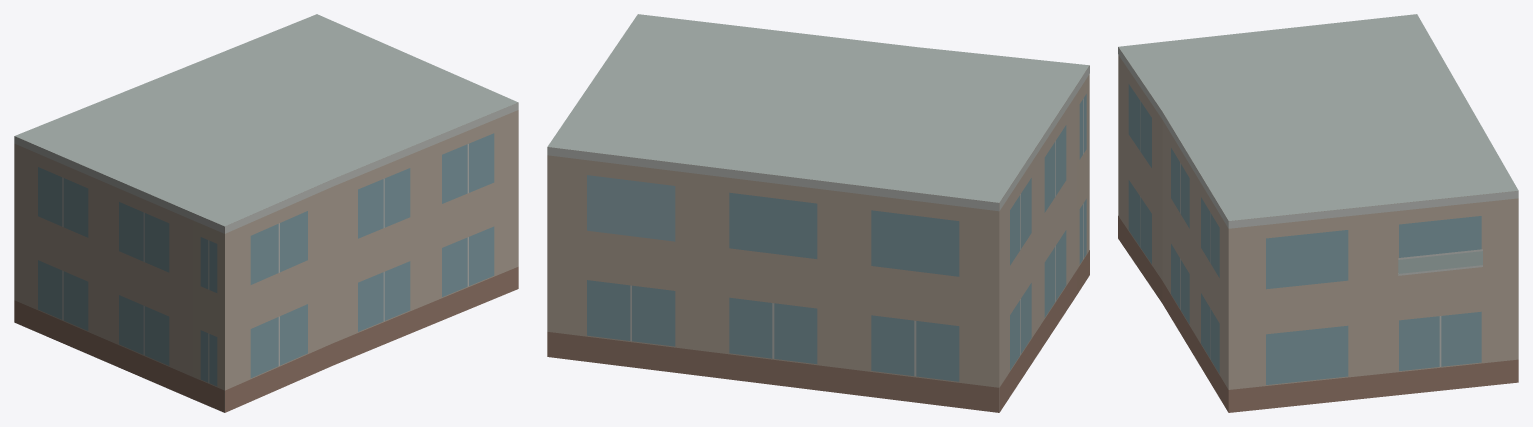
Rendered from survey-upis-32983561.glb.
The picture shows the model from 3 angles, left to right: view 1: azimuth 30°, elevation 25°; view 2: azimuth 150°, elevation 25°; view 3: azimuth 270°, elevation 25°; orthographic projection. The views are drawn at different scales.
Parts seen in each view (by area): view 1: survey-upis-32983561.tmp; view 2: survey-upis-32983561.tmp; view 3: survey-upis-32983561.tmp.
Part boxes in pixels (x1,y1,x2,y2): survey-upis-32983561.tmp: [14, 14, 518, 412]; survey-upis-32983561.tmp: [547, 14, 1089, 412]; survey-upis-32983561.tmp: [1118, 14, 1518, 412].
Size of the model in its own units: 14.14 by 6.1 by 11.56.
